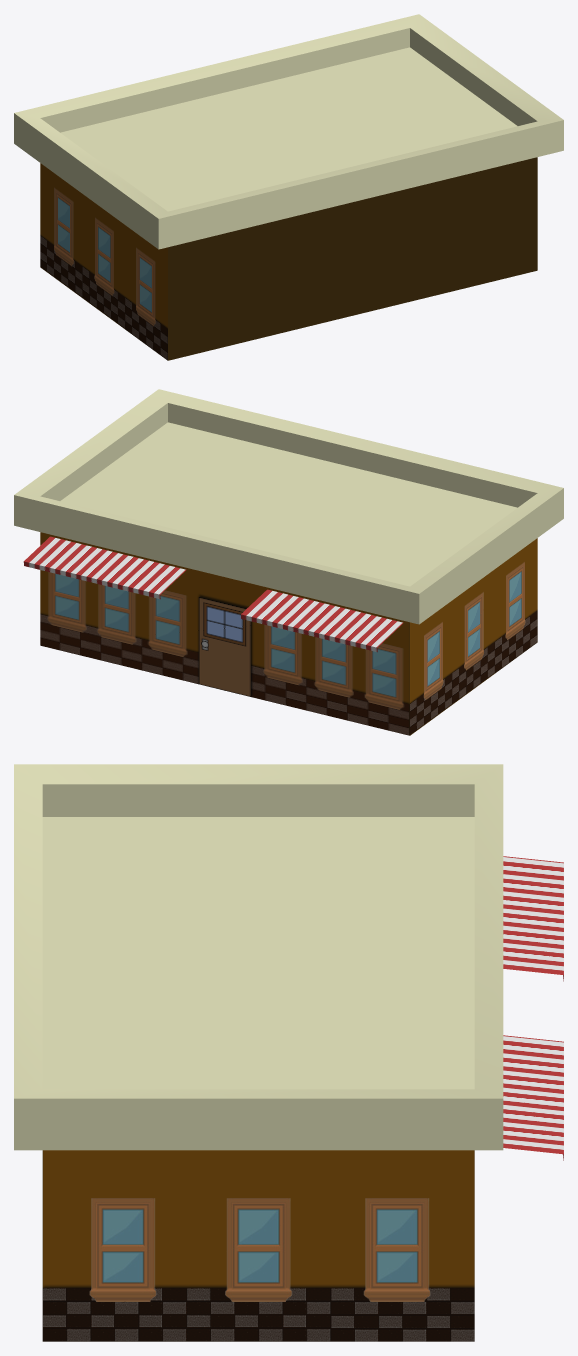
Rendered from Building 1.fbx.
3 views of the same model, one above another, from view 1: azimuth 30°, elevation 25°; view 2: azimuth 150°, elevation 25°; view 3: azimuth 270°, elevation 25° (orthographic). The views are drawn at different scales.
Parts seen in each view (by area): view 1: BuildingCombined; view 2: BuildingCombined; view 3: BuildingCombined.
Boxes of the visible parts, box(x1,y1,x2,y2) form: BuildingCombined: box(14, 14, 563, 360); BuildingCombined: box(14, 389, 563, 735); BuildingCombined: box(14, 764, 563, 1341).
Size of the model in its own units: 1549 by 557 by 1077.
3 materials, 2 textured.
